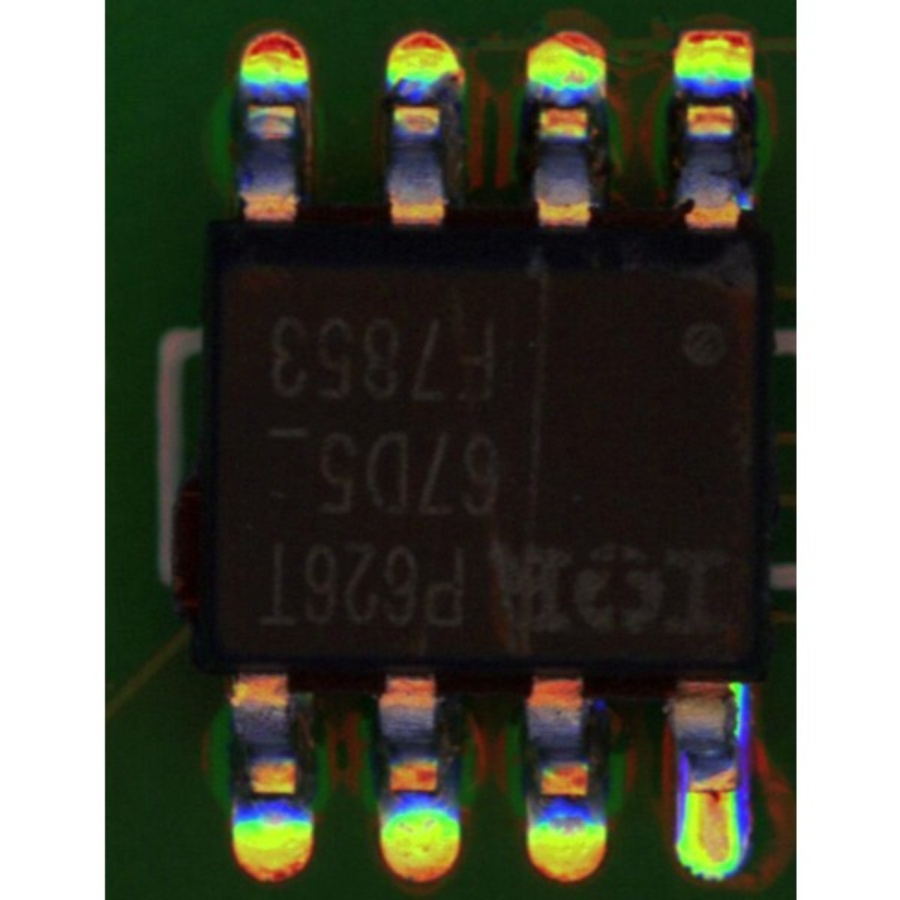Bad_podu: (697, 780, 727, 825)
